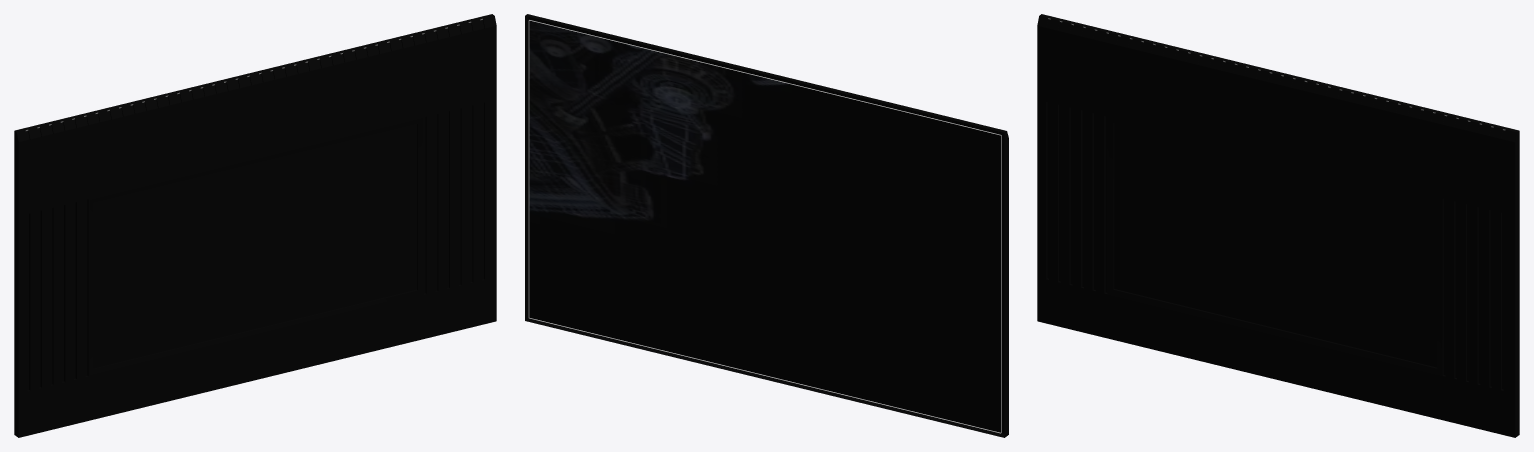
The model's file is pantalla.obj.
3 views of the same model, side by side, from view 1: azimuth 30°, elevation 25°; view 2: azimuth 150°, elevation 25°; view 3: azimuth 330°, elevation 25° (orthographic).
Parts seen in each view (by area): view 1: Screen; view 2: Screen; view 3: Screen.
Boxes of the visible parts, box(x1,y1,x2,y2) form: Screen: box(14, 14, 496, 437); Screen: box(525, 14, 1008, 437); Screen: box(1037, 14, 1519, 437).
Bounding box in the file's own units: 1.43 × 0.8695 × 0.0227.
Materials: 3 (1 with a texture image).
